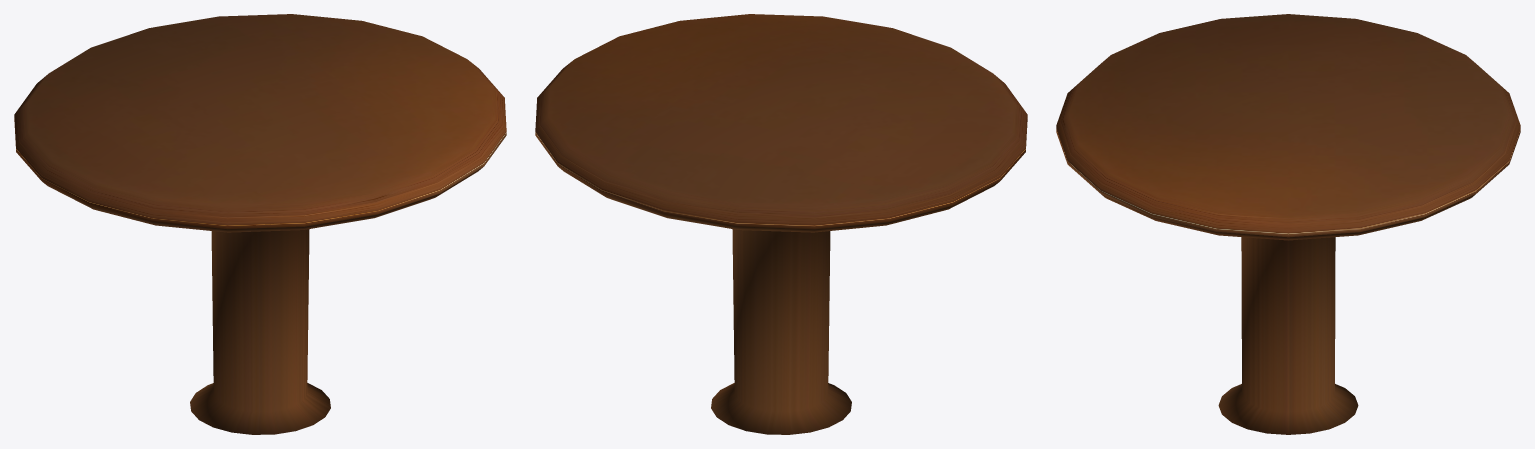
Rendered from Mesa Redonda.fbx.
3 views of the same model, side by side, from view 1: azimuth 30°, elevation 25°; view 2: azimuth 150°, elevation 25°; view 3: azimuth 270°, elevation 25° (orthographic).
Parts seen in each view (by area): view 1: tripo_node_417dc0b1; view 2: tripo_node_417dc0b1; view 3: tripo_node_417dc0b1.
Part boxes in pixels (x1,y1,x2,y2): tripo_node_417dc0b1: (14,14,506,434); tripo_node_417dc0b1: (535,14,1027,434); tripo_node_417dc0b1: (1056,14,1520,434).
Bounding box in the file's own units: 100 × 64.61 × 93.2.
1 material, 1 textured.
